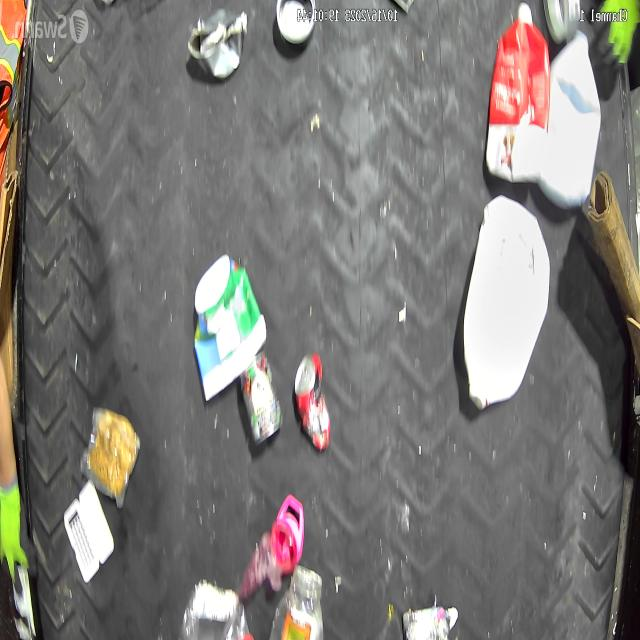can: (188, 4, 248, 82), (239, 350, 283, 446), (294, 350, 332, 452), (275, 0, 316, 43)
milk_jug: (463, 195, 550, 411), (534, 30, 599, 208)
non_white_jug: (485, 3, 548, 182)
